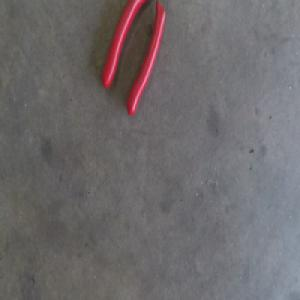Pliers: (100, 0, 166, 113)
